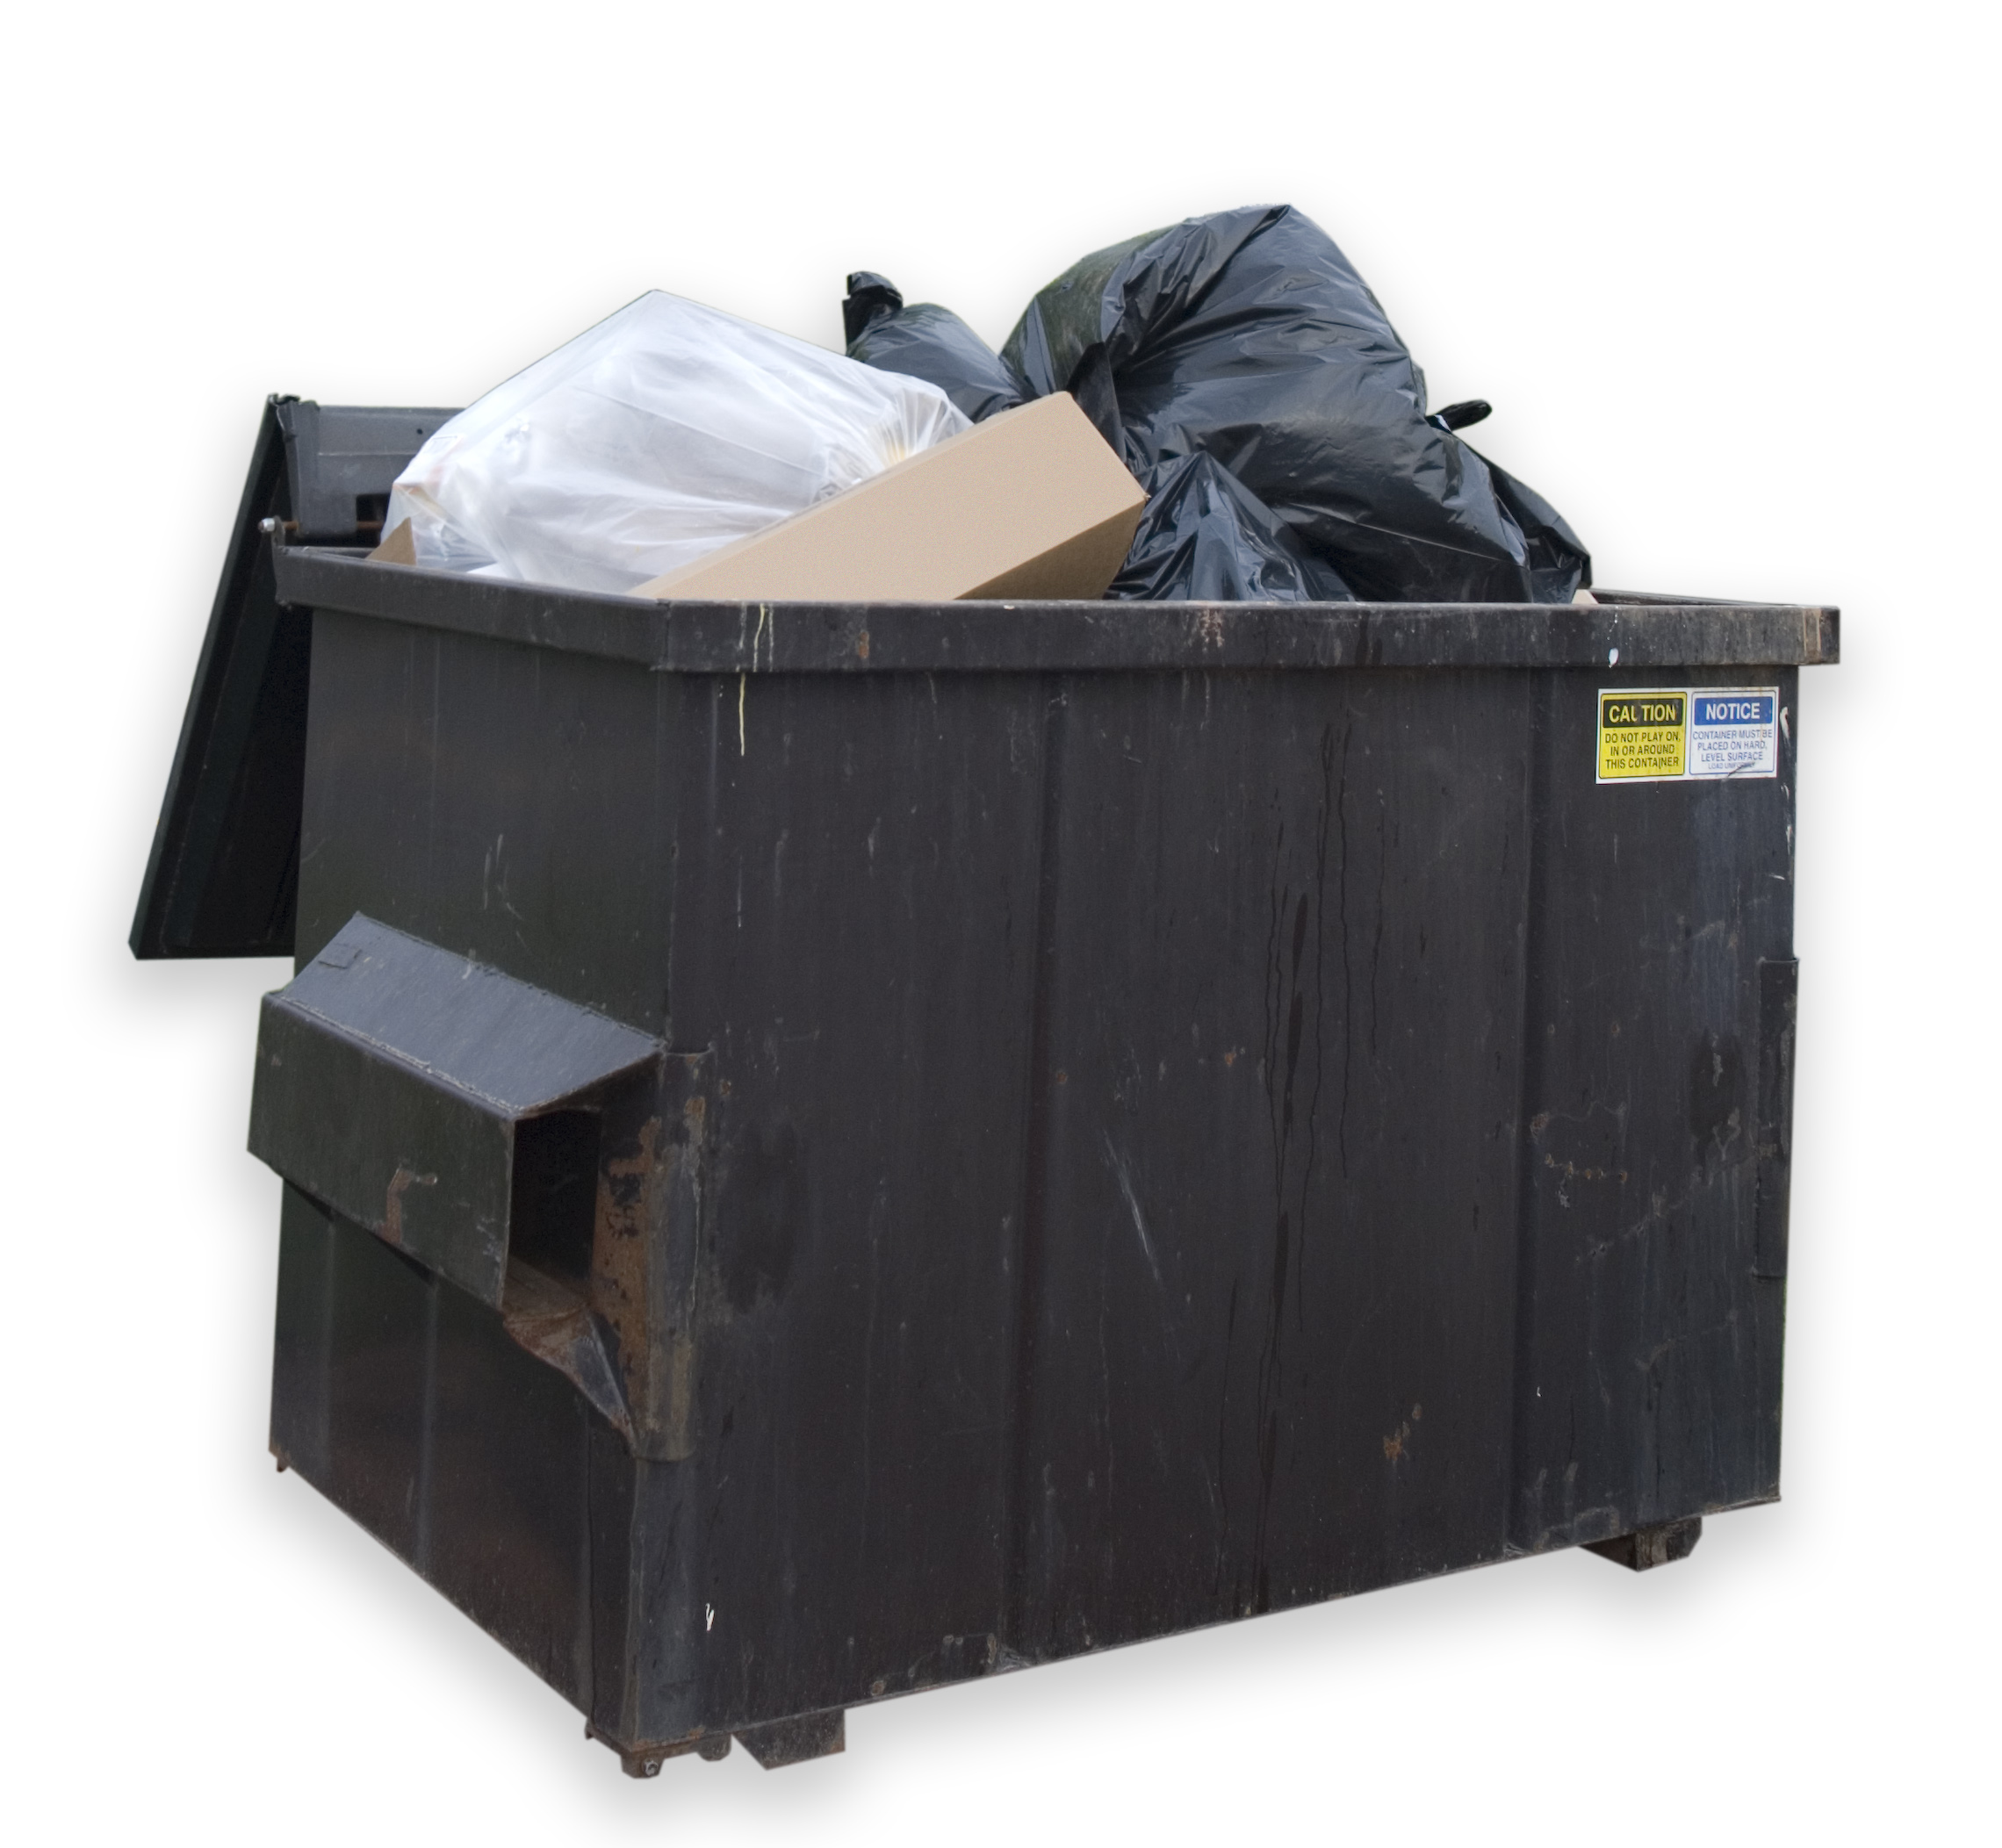Dumpster: (94, 385, 1859, 1796)
